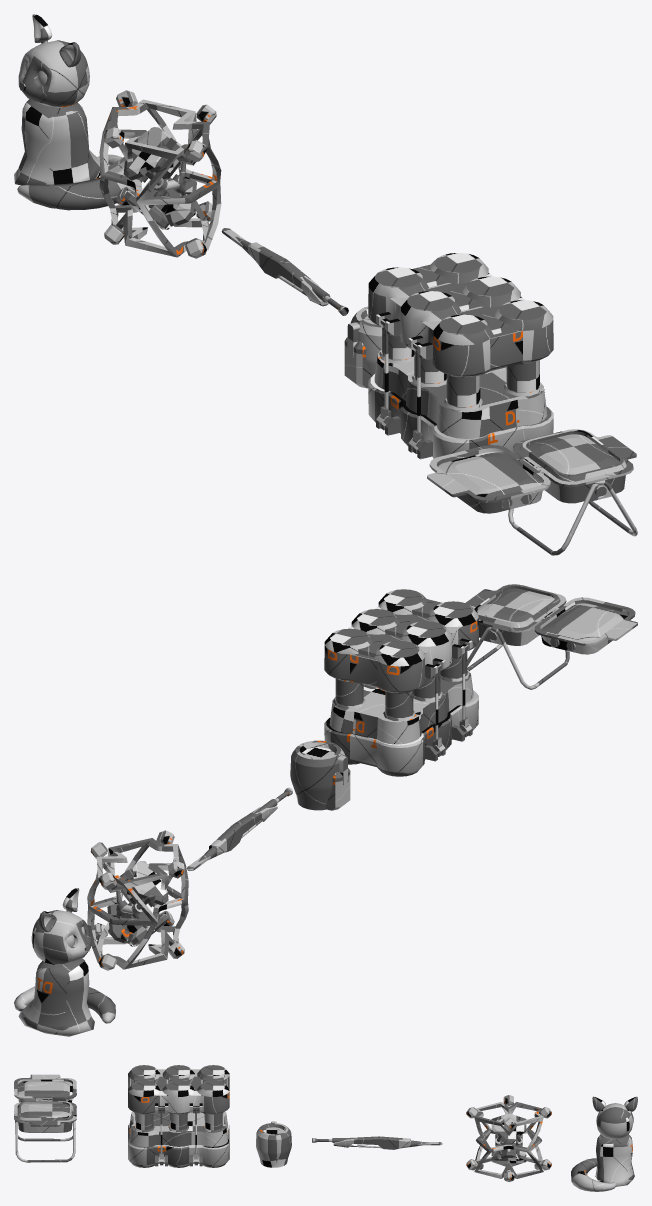
Rendered from Pack_06_Gameready.FBX.
The picture shows the model from 3 angles, top to bottom: view 1: azimuth 30°, elevation 25°; view 2: azimuth 150°, elevation 25°; view 3: azimuth 270°, elevation 25°; orthographic projection. The views are drawn at different scales.
Parts seen in each view (by area): view 1: Object35061, Object35054, Object35055, Object35062, Object35056, Object35068, Object35060, Object35067, Object35064, Object35059, Object35063, Object35058 (+2 smaller); view 2: Object35061, Object35062, Object35054, Object35055, Object35058, Object35056, Object35068, Object35060, Object35067, Object35064, Object35059, Object35063 (+2 smaller); view 3: Object35061, Object35062, Object35054, Object35055, Object35058, Object35068, Object35056, Object35057, Object35060, Object35064, Object35067, Object35059 (+2 smaller).
Boxes of the visible parts, <box> form: Object35061: <box>368,253,553,377</box>; Object35054: <box>14,14,134,210</box>; Object35055: <box>99,90,221,258</box>; Object35062: <box>368,349,553,458</box>; Object35056: <box>123,127,196,229</box>; Object35068: <box>512,429,636,503</box>; Object35060: <box>382,327,539,406</box>; Object35067: <box>427,445,550,513</box>; Object35064: <box>438,452,542,497</box>; Object35059: <box>376,312,432,459</box>; Object35063: <box>526,434,619,474</box>; Object35058: <box>344,306,381,388</box>; Object35061: <box>324,589,478,693</box>; Object35062: <box>324,670,478,776</box>; Object35054: <box>14,888,115,1036</box>; Object35055: <box>87,830,188,970</box>; Object35058: <box>290,740,350,810</box>; Object35056: <box>107,861,168,946</box>; Object35068: <box>465,584,566,645</box>; Object35060: <box>335,652,467,717</box>; Object35067: <box>534,597,637,654</box>; Object35064: <box>541,603,628,640</box>; Object35059: <box>425,638,472,761</box>; Object35063: <box>477,588,554,621</box>; Object35061: <box>128,1065,229,1114</box>; Object35062: <box>128,1111,229,1167</box>; Object35054: <box>571,1096,637,1191</box>; Object35055: <box>466,1095,551,1181</box>; Object35058: <box>256,1121,291,1167</box>; Object35068: <box>14,1099,76,1132</box>; Object35056: <box>491,1113,526,1166</box>; Object35057: <box>312,1136,442,1149</box>; Object35060: <box>135,1112,222,1130</box>; Object35064: <box>18,1081,72,1096</box>; Object35067: <box>14,1074,76,1102</box>; Object35059: <box>155,1103,202,1166</box>.
Size of the model in its own units: 32517 by 27360 by 154518.
